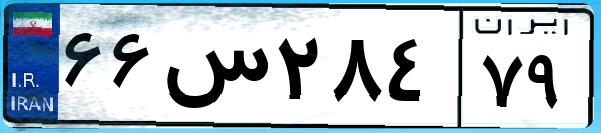2: (270, 28, 330, 110)
4: (385, 28, 445, 110)
6: (57, 26, 110, 100), (110, 28, 158, 98)
7: (475, 38, 525, 113)
8: (330, 28, 385, 110)
9: (525, 38, 570, 115)
س: (158, 20, 270, 120)
